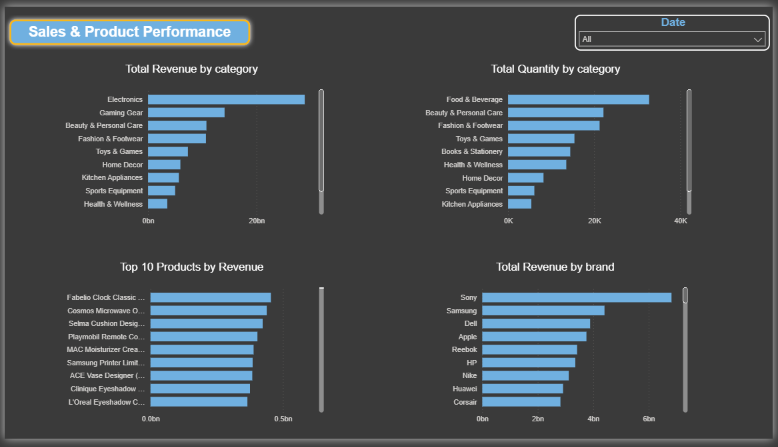

This screenshot's page, from the dashboard's own definition file:
{"tool":"powerbi","page":{"name":"Sales & Product Performance","canvas":[1280,720],"ordinal":1},"visuals":[{"type":"clusteredBarChart","fields":{"Category":["dim_product.category"],"Y":["fact_order.Total Revenue"]},"box":[86.7,93.3,450,280],"z":0},{"type":"clusteredBarChart","fields":{"Category":["dim_product.category"],"Y":["fact_order.Total Quantity"]},"box":[686,94,463.1,280.1],"z":1000},{"type":"clusteredBarChart","title":"Top 10 Products by Revenue","fields":{"Category":["dim_product.sku_name"],"Y":["fact_order.Total Revenue"]},"box":[86.7,423.3,450,280],"z":2000},{"type":"clusteredBarChart","fields":{"Category":["dim_product.brand"],"Y":["fact_order.Total Revenue"]},"box":[691.7,423.3,451.7,280],"z":3000},{"type":"shape","box":[0,12.9,417.1,58.6],"z":4000},{"type":"textbox","title":"Sales & Product Performance","box":[31.7,28.3,353.3,30],"z":5000},{"type":"slicer","title":"Date","fields":{"Values":["dim_date1.year","dim_date1.quarter","dim_date1.month"]},"box":[950,13.3,325,60],"z":6000}]}

Visuals, with their boxes in screenshot pixels (x1, y1, x2, y2), scaled from the page's 1280x720 canvas onto the 778x447 screenshot:
clusteredBarChart - dim_product.category x fact_order.Total Revenue: box(53, 58, 326, 232)
clusteredBarChart - dim_product.category x fact_order.Total Quantity: box(417, 58, 698, 232)
"Top 10 Products by Revenue" clusteredBarChart: box(53, 263, 326, 437)
clusteredBarChart - dim_product.brand x fact_order.Total Revenue: box(420, 263, 695, 437)
shape: box(0, 8, 254, 44)
"Sales & Product Performance" textbox: box(19, 18, 234, 36)
"Date" slicer: box(577, 8, 775, 46)
